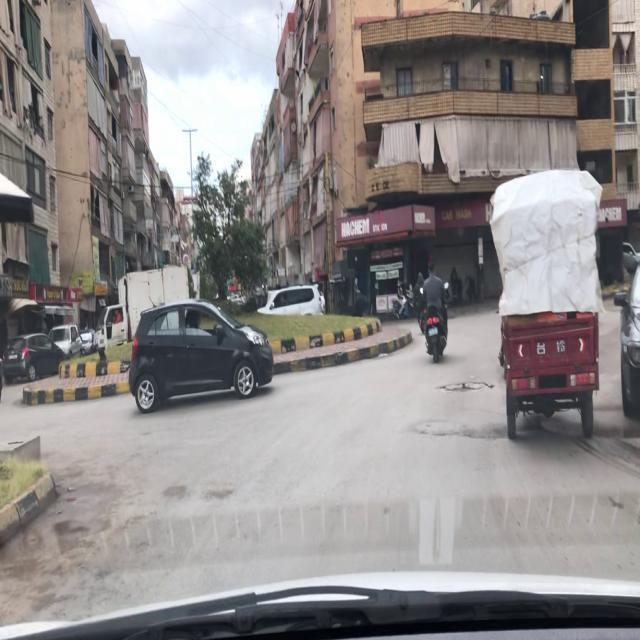Buraco: (434, 380, 496, 396)
